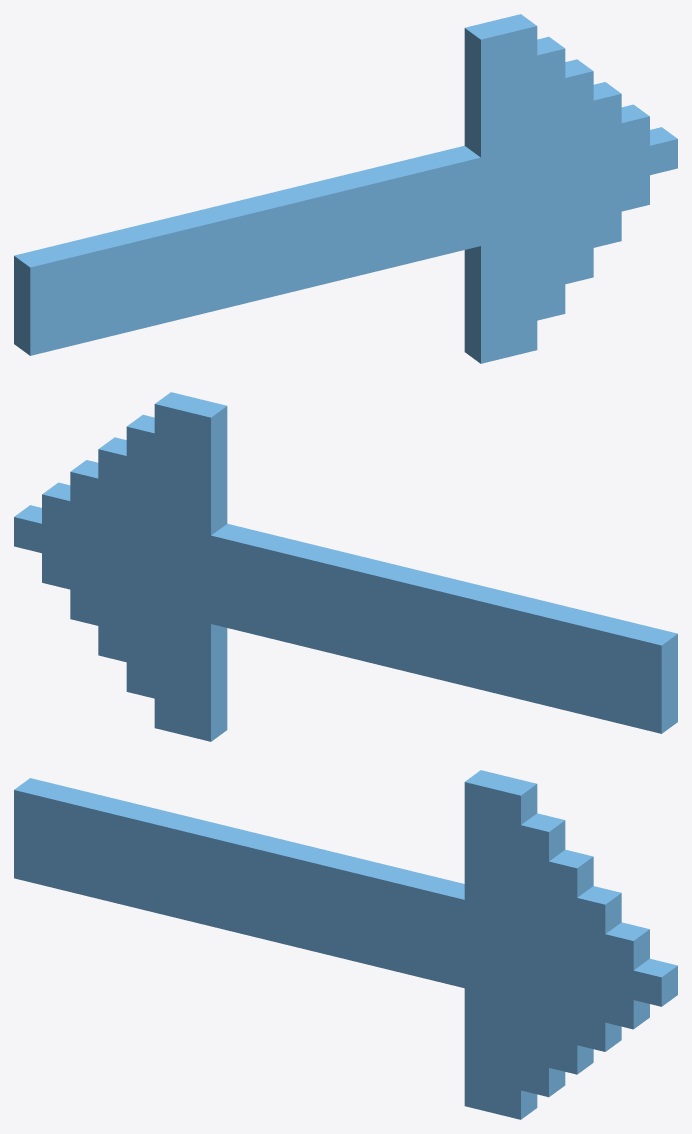
File: Arrow-1.obj
3 renders of one model, top to bottom at view 1: azimuth 30°, elevation 25°; view 2: azimuth 150°, elevation 25°; view 3: azimuth 330°, elevation 25°, orthographic.
Parts seen in each view (by area): view 1: Arrow-1; view 2: Arrow-1; view 3: Arrow-1.
Boxes of the visible parts, bbox=[...] form: Arrow-1: bbox=[14, 14, 677, 363]; Arrow-1: bbox=[14, 392, 677, 741]; Arrow-1: bbox=[14, 770, 677, 1119].
Bounding box in the file's own units: 23 × 11 × 1.
1 material, 1 textured.
